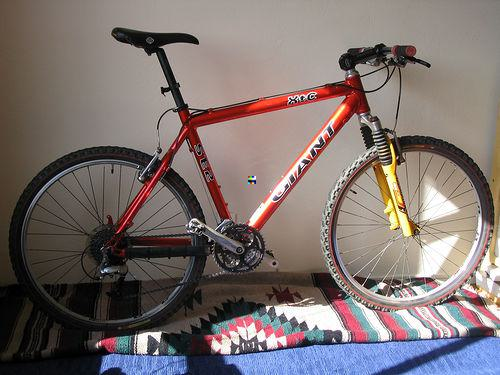car: (8, 26, 496, 334)
